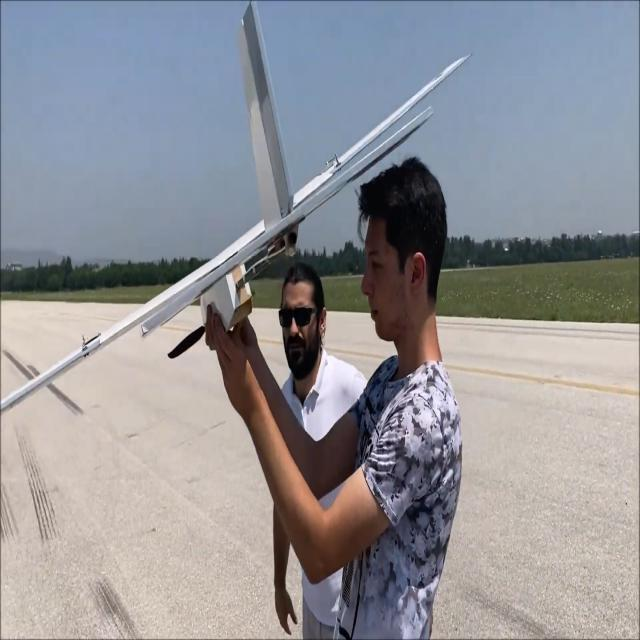Airplane: (2, 0, 531, 464)
